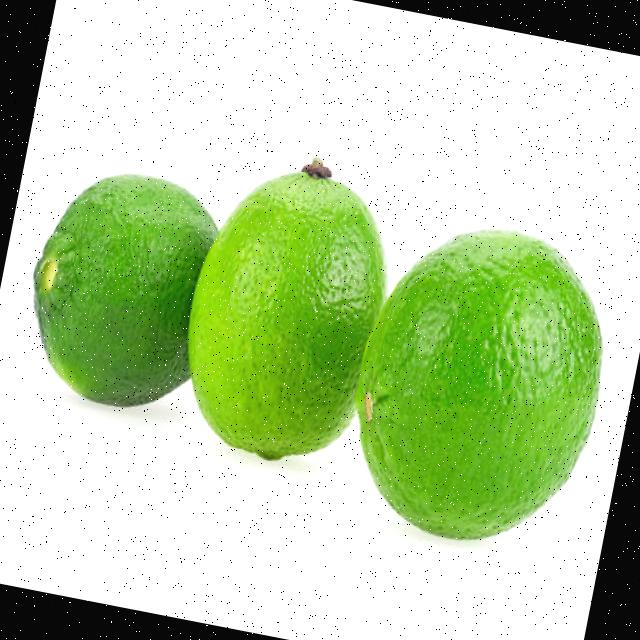Unripe: (335, 207, 629, 564), (167, 144, 407, 474), (10, 154, 232, 425)
